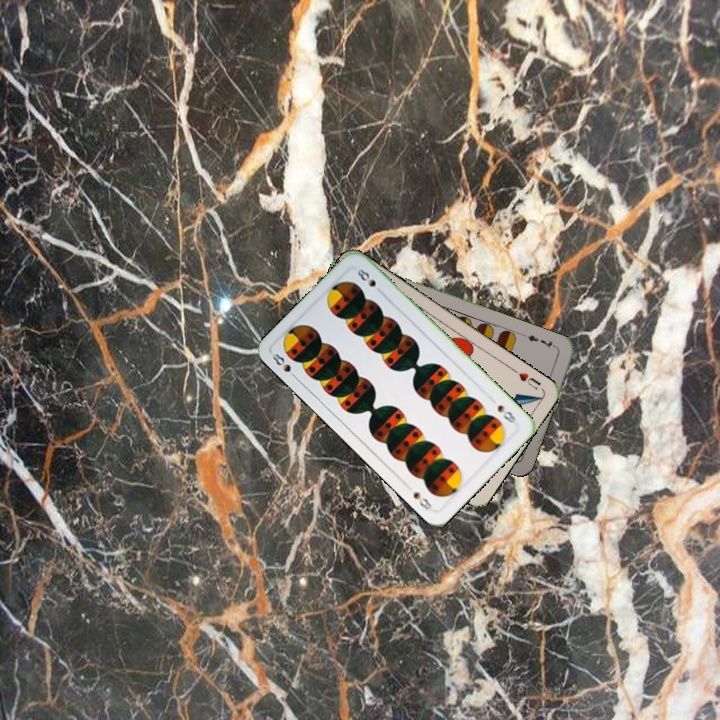E7: (521, 330, 560, 351)
HU: (509, 365, 544, 392)
S8: (266, 349, 300, 382), (493, 401, 519, 426)
